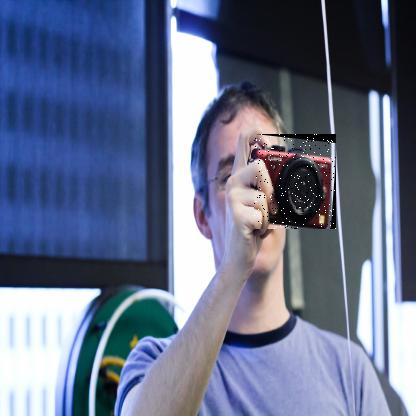Camera: (255, 135, 338, 231)
